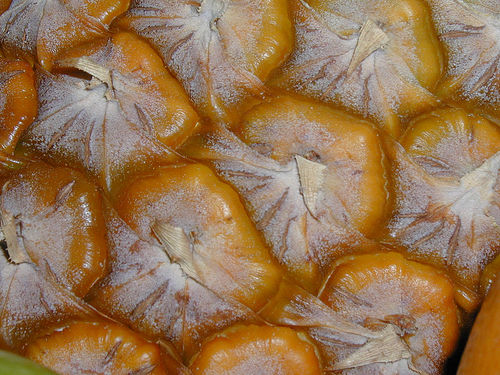pineapple: (1, 0, 499, 374)
